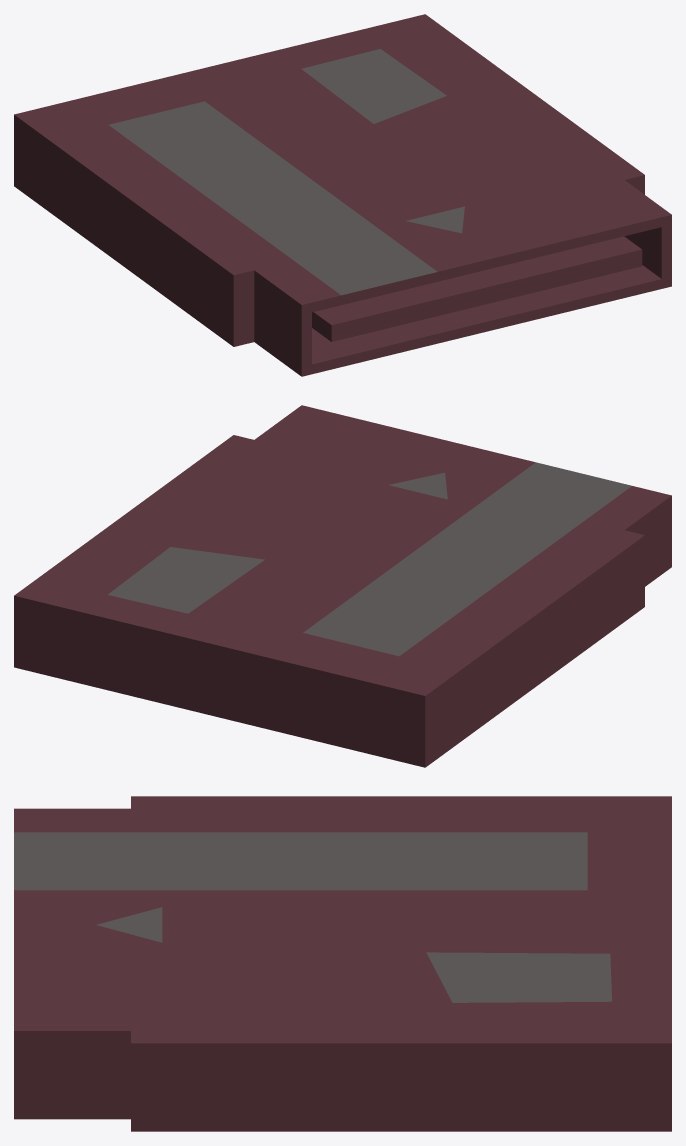
File: cartridge-game-a.fbx
The picture shows the model from 3 angles, top to bottom: view 1: azimuth 30°, elevation 25°; view 2: azimuth 150°, elevation 25°; view 3: azimuth 270°, elevation 25°; orthographic projection. The views are drawn at different scales.
Visible parts, largest first — view 1: cartridge-game-a; view 2: cartridge-game-a; view 3: cartridge-game-a.
Boxes of the visible parts, box(x1,y1,x2,y2) form: cartridge-game-a: box(14, 14, 671, 376); cartridge-game-a: box(14, 405, 671, 767); cartridge-game-a: box(14, 796, 671, 1131).
Size of the model in its own units: 0.132 by 0.022 by 0.1485.
